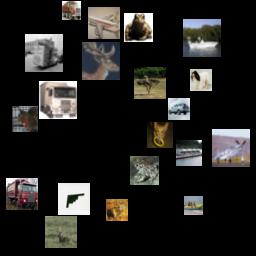airplane: (212, 129, 250, 167), (58, 183, 90, 215), (88, 7, 120, 39)
automobile: (168, 98, 190, 120)
bird: (134, 67, 166, 99)
cat: (12, 106, 38, 132)
deer: (82, 42, 120, 80), (45, 216, 77, 248), (106, 199, 128, 221)
dog: (147, 122, 173, 148), (190, 69, 212, 91)
frog: (130, 156, 159, 185), (124, 13, 153, 42)
ship: (183, 19, 221, 57), (176, 140, 202, 166), (184, 196, 203, 215)
truck: (39, 81, 77, 119), (25, 34, 63, 72), (6, 178, 38, 210), (62, 1, 81, 20)
